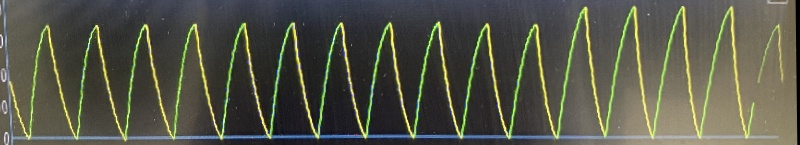normal_volume: (15, 8, 753, 145)
